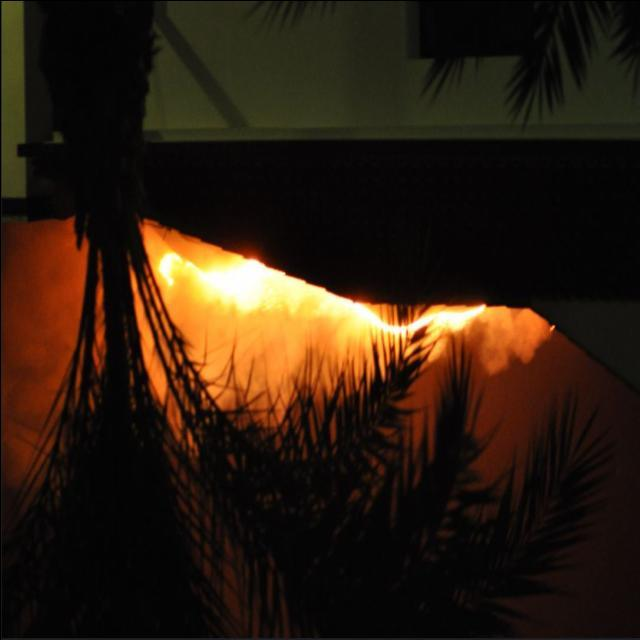Fire: (157, 251, 483, 341)
